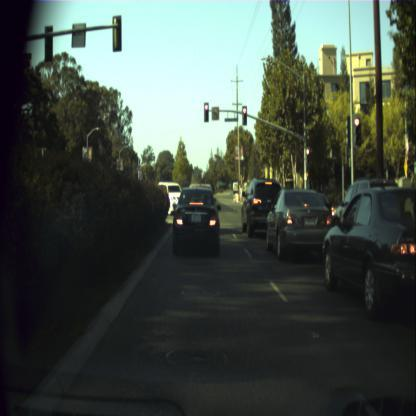Red: (354, 112, 362, 146), (204, 102, 209, 122), (242, 106, 247, 124), (306, 146, 310, 168)
